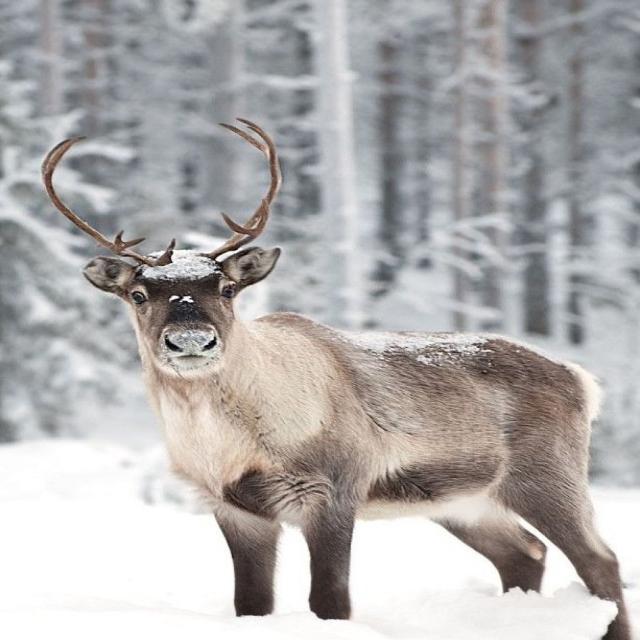Reindeer: (26, 113, 640, 640)
